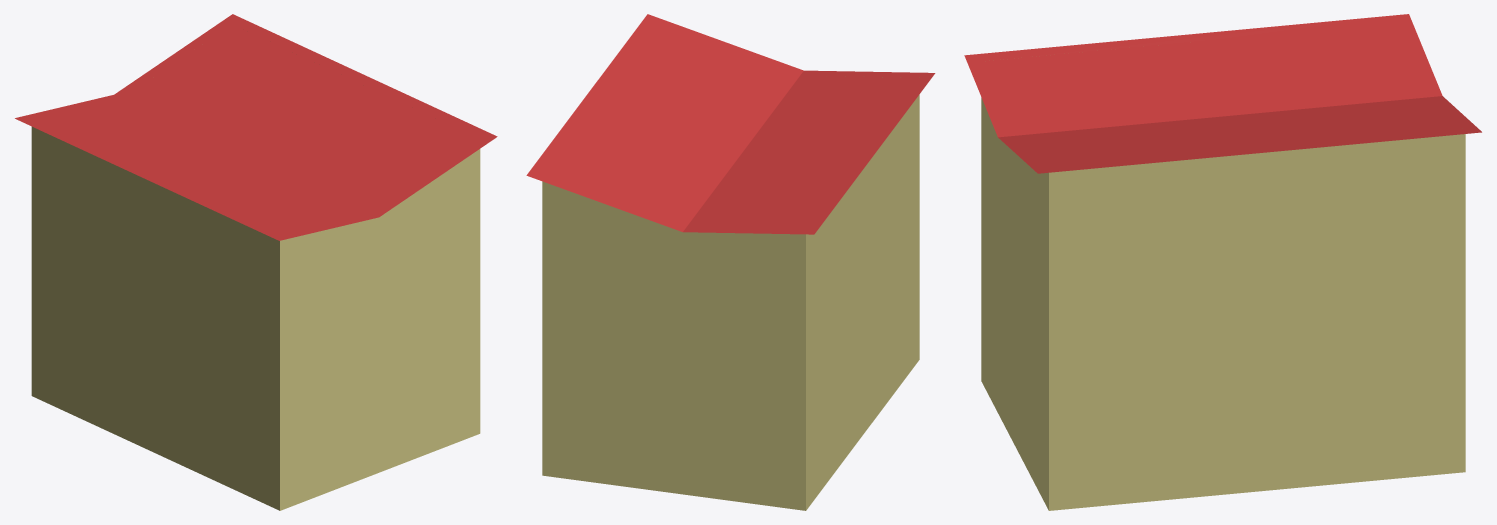
3 views of the same model, side by side, from view 1: azimuth 30°, elevation 25°; view 2: azimuth 150°, elevation 25°; view 3: azimuth 270°, elevation 25° (orthographic). The views are drawn at different scales.
Bounding box in the file's own units: 7.51 × 9 × 6.6.
